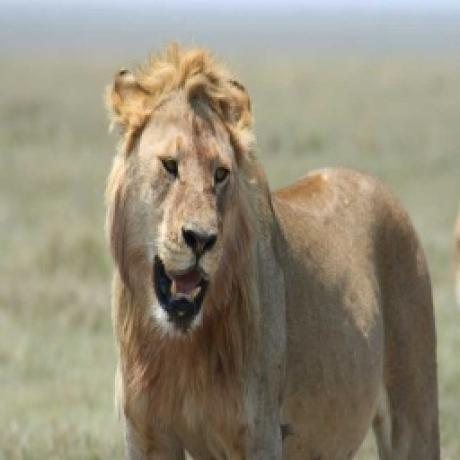Lion: (95, 39, 451, 460)
